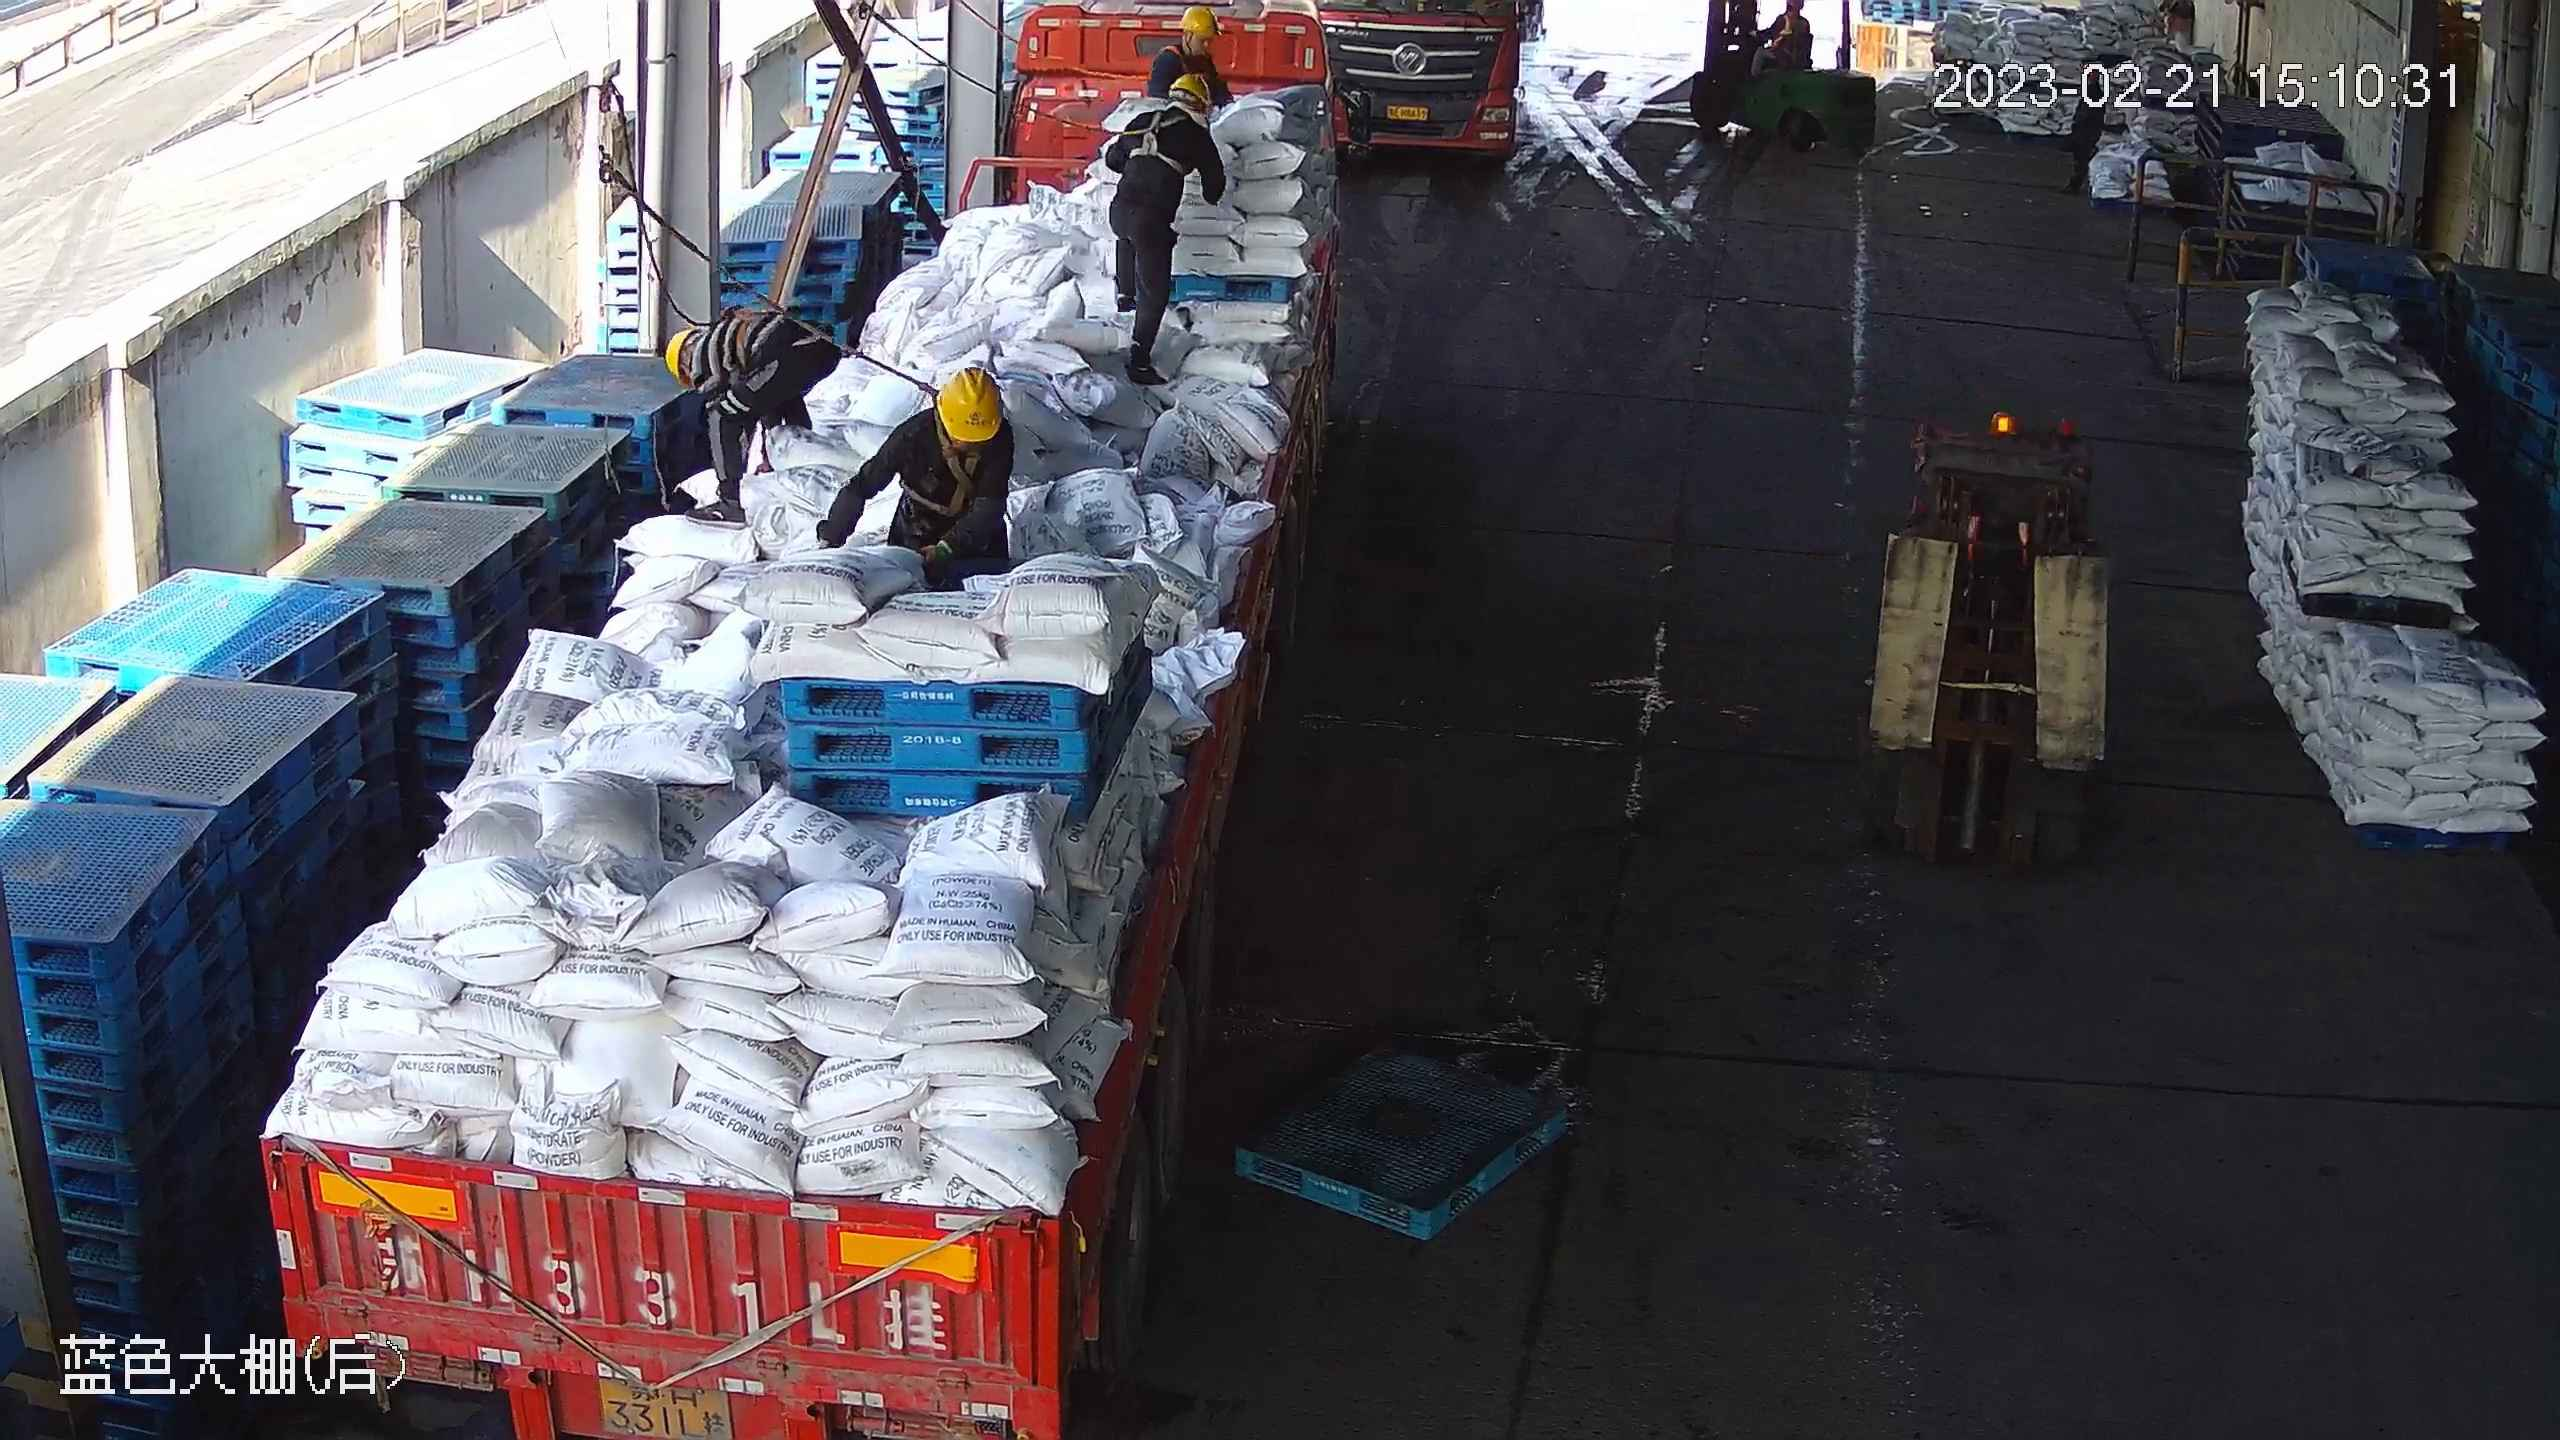belt: (898, 435, 988, 525), (710, 305, 775, 379), (1122, 110, 1191, 181), (1153, 44, 1216, 81)
head: (893, 367, 1017, 476), (1125, 71, 1220, 166), (662, 310, 757, 403), (1154, 8, 1237, 89)
people: (823, 369, 1020, 581), (1105, 69, 1223, 391), (666, 311, 835, 530), (1737, 1, 1811, 71)
truck: (251, 5, 1344, 1440)
